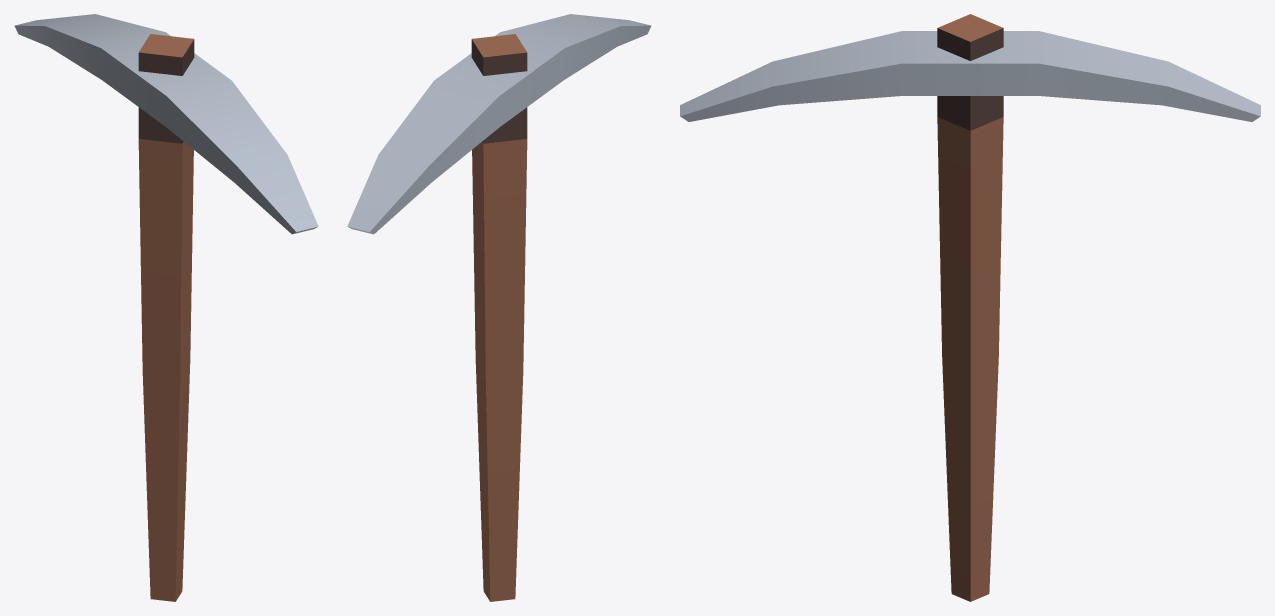
File: pickaxe.fbx
3 views of the same model, side by side, from view 1: azimuth 30°, elevation 25°; view 2: azimuth 150°, elevation 25°; view 3: azimuth 270°, elevation 25° (orthographic). The views are drawn at different scales.
Visible parts, largest first — view 1: pickaxe; view 2: pickaxe; view 3: pickaxe.
Boxes of the visible parts, box(x1,y1,x2,y2) form: pickaxe: box(14, 14, 318, 601); pickaxe: box(347, 14, 651, 601); pickaxe: box(680, 14, 1260, 601).
Bounding box in the file's own units: 0.1251 × 1.01 × 0.9416.
